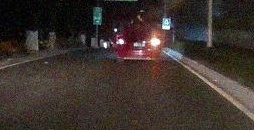L_light: (116, 38, 128, 44)
R_light: (147, 38, 160, 45)
T_light: (137, 25, 145, 27)
night-right: (115, 24, 161, 66)
